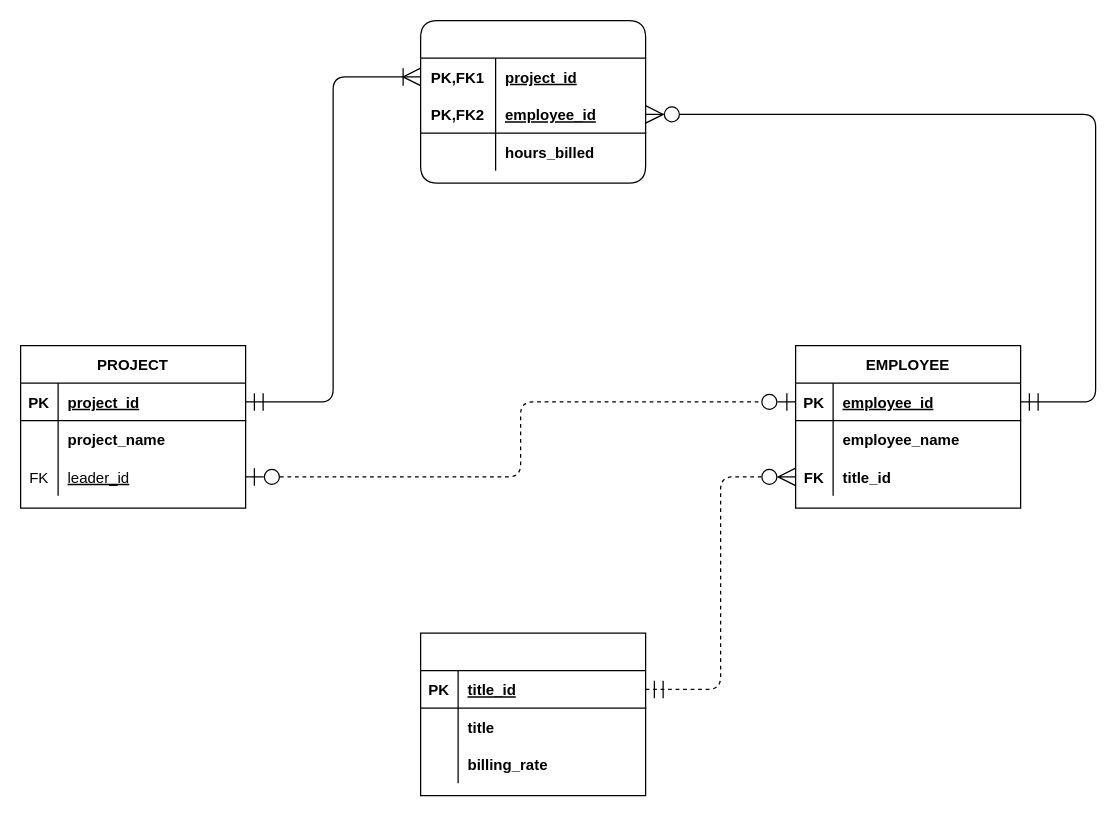
Image size: 1116x816. Some labels were removed from this diagram. The box of each missing label's shape, as (x1, y1, x2, y2) in pixels:
JOB_TITLE: (419, 632, 646, 796)
PROJECT_EMPLOYEE: (419, 19, 646, 183)
